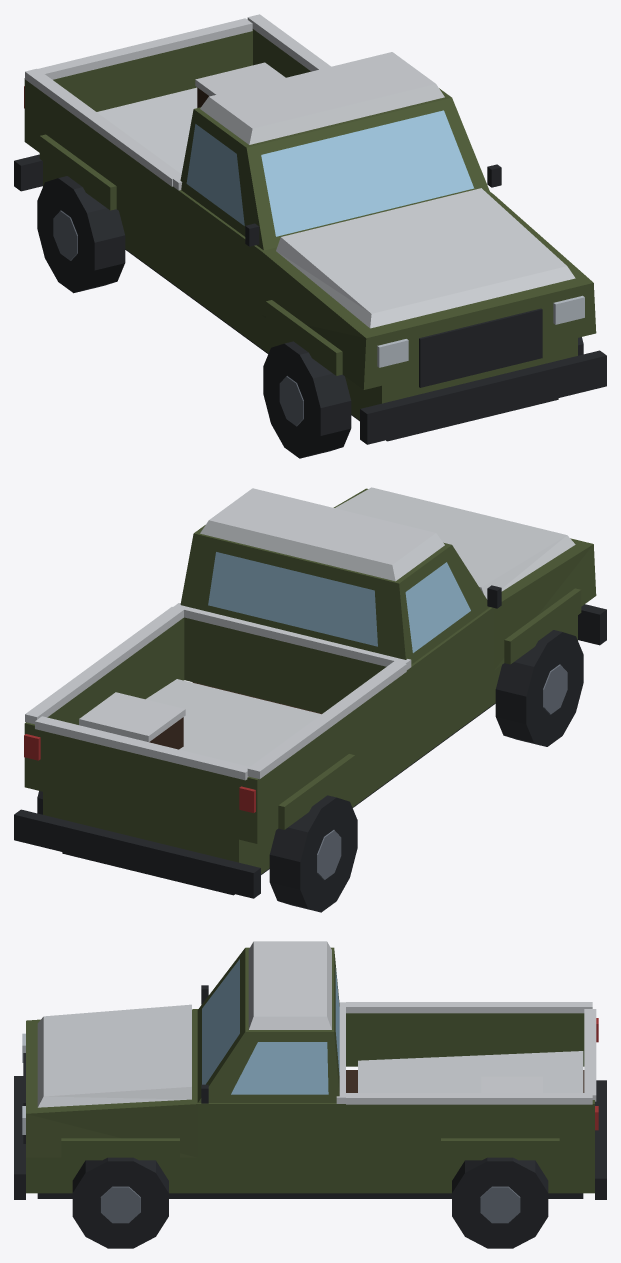
File: pickup_truck.glb
3 views of the same model, one above another, from view 1: azimuth 30°, elevation 25°; view 2: azimuth 150°, elevation 25°; view 3: azimuth 270°, elevation 25° (orthographic). The views are drawn at different scales.
Parts seen in each view (by area): view 1: Body, Snow, Wheels; view 2: Body, Snow, Wheels; view 3: Body, Snow, Wheels.
Boxes of the visible parts, x1,y1,x2,y2 form: Body: (14, 29, 606, 444); Snow: (25, 14, 575, 328); Wheels: (37, 176, 583, 458); Body: (14, 488, 606, 898); Snow: (25, 487, 575, 780); Wheels: (37, 630, 583, 912); Body: (14, 947, 606, 1199); Snow: (37, 941, 596, 1107); Wheels: (72, 1157, 548, 1248).
Size of what is drawn, in the model's own units: 2.16 by 2.01 by 5.
